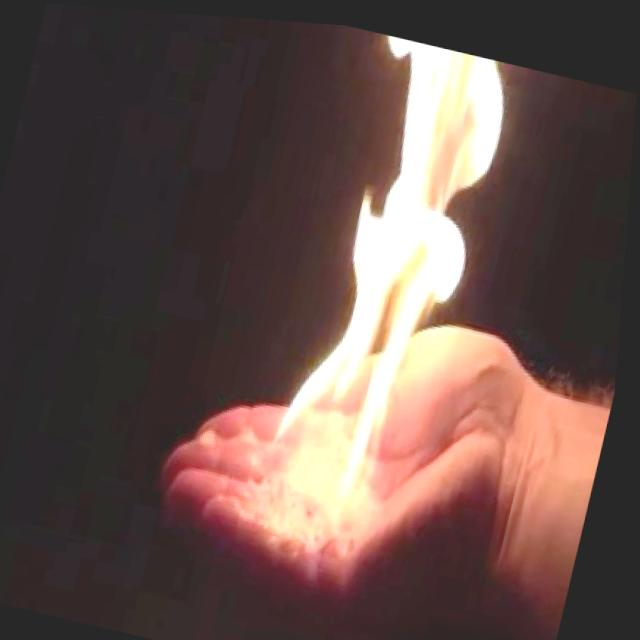helmet: (262, 20, 526, 526)
